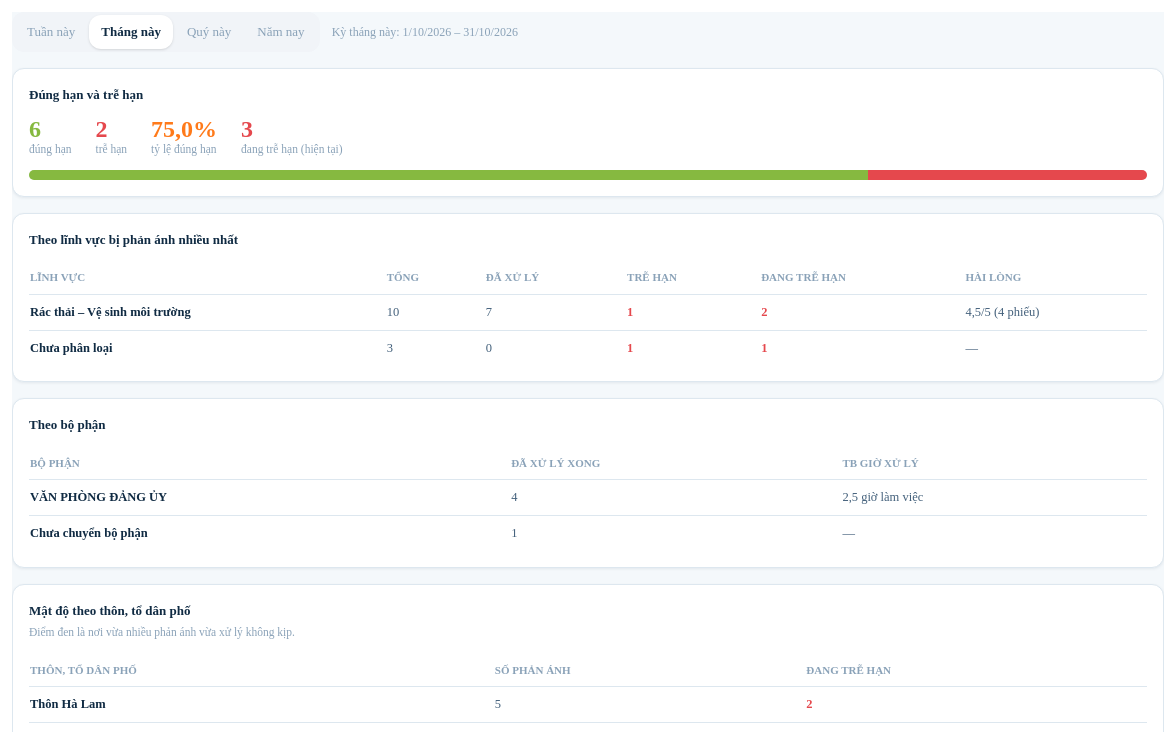
Test case: Báo cáo — the period is /bao-cao's, [from, to) in Viet Nam › opens on `Tháng này` with periodWindows' current window; `Quý này` asks the quarter
The image size is (1164, 732).
Click the button "Quý này" at (209, 32), box [175, 15, 243, 49]
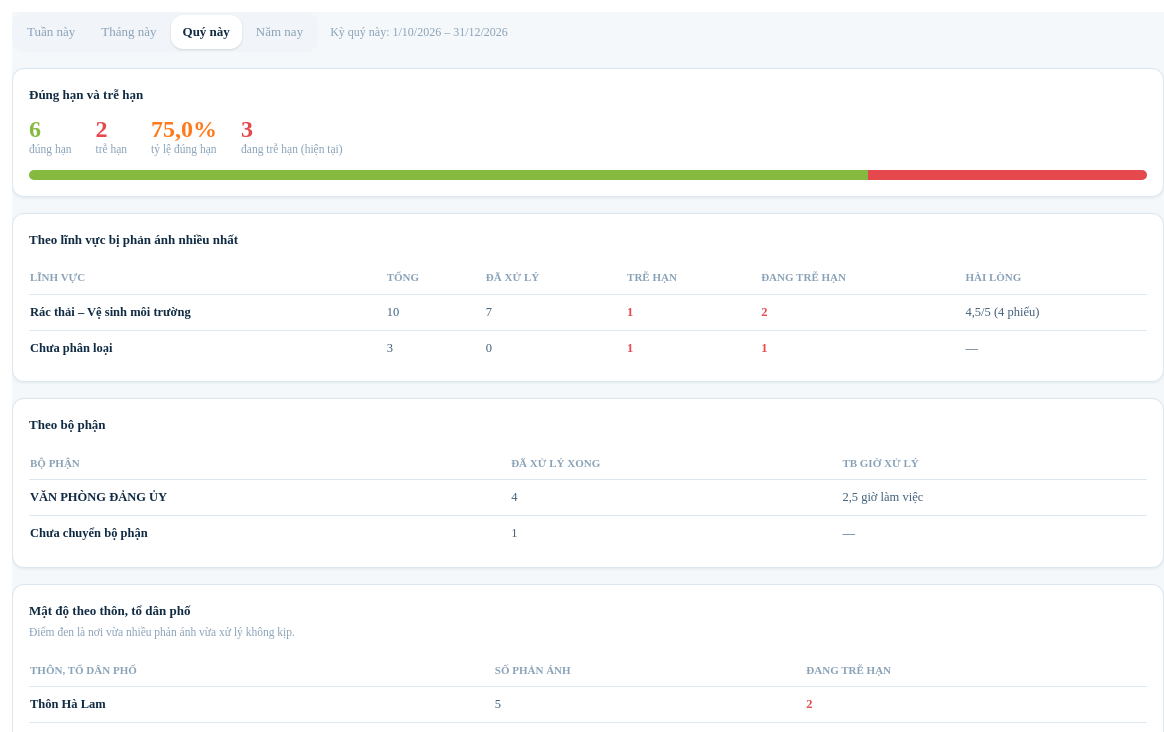
Expected: the text "Kỳ quý này" is shown, [330, 25, 508, 39]
